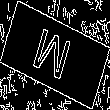M_S: (32, 23, 78, 87)
